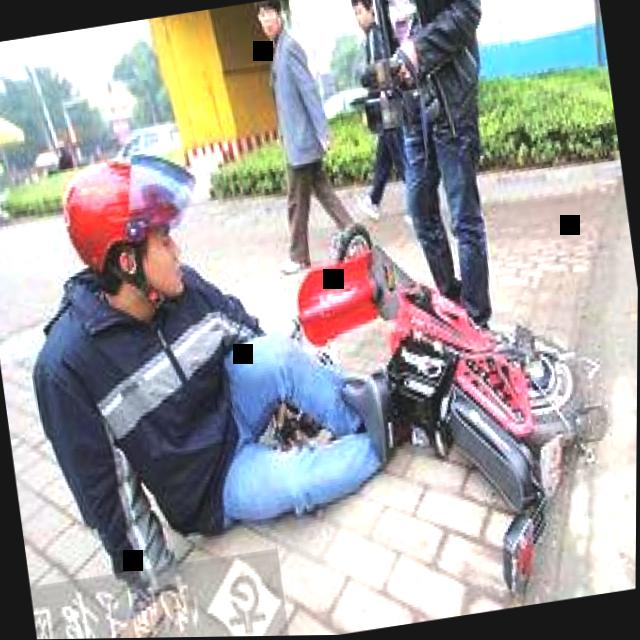Fall-Detected: (0, 99, 441, 627)
